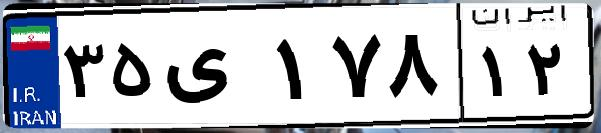1: (270, 28, 330, 110), (475, 38, 525, 113)
2: (525, 38, 570, 115)
3: (57, 26, 110, 100)
5: (110, 28, 158, 98)
7: (330, 28, 385, 110)
8: (385, 28, 445, 110)
ی: (158, 20, 270, 120)
